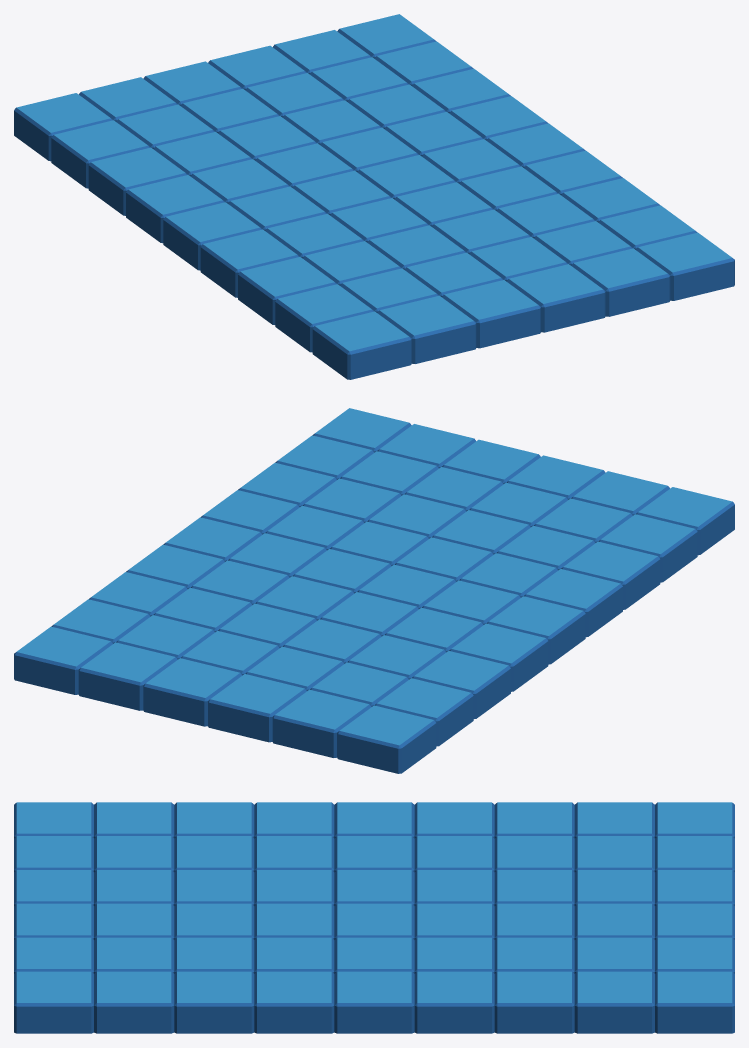
3 renders of one model, top to bottom at view 1: azimuth 30°, elevation 25°; view 2: azimuth 150°, elevation 25°; view 3: azimuth 270°, elevation 25°, orthographic. The views are drawn at different scales.
Parts seen in each view (by area): view 1: pCube30; view 2: pCube30; view 3: pCube30.
Part boxes in pixels (left/top/right/bottom): pCube30: left=14, top=14, right=734, bottom=379; pCube30: left=14, top=408, right=734, bottom=773; pCube30: left=14, top=802, right=734, bottom=1033.
Size of the model in its own units: 6 by 0.4072 by 9.
